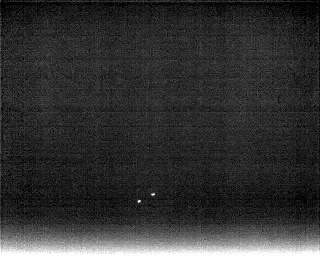BIRD: (149, 190, 157, 199)
